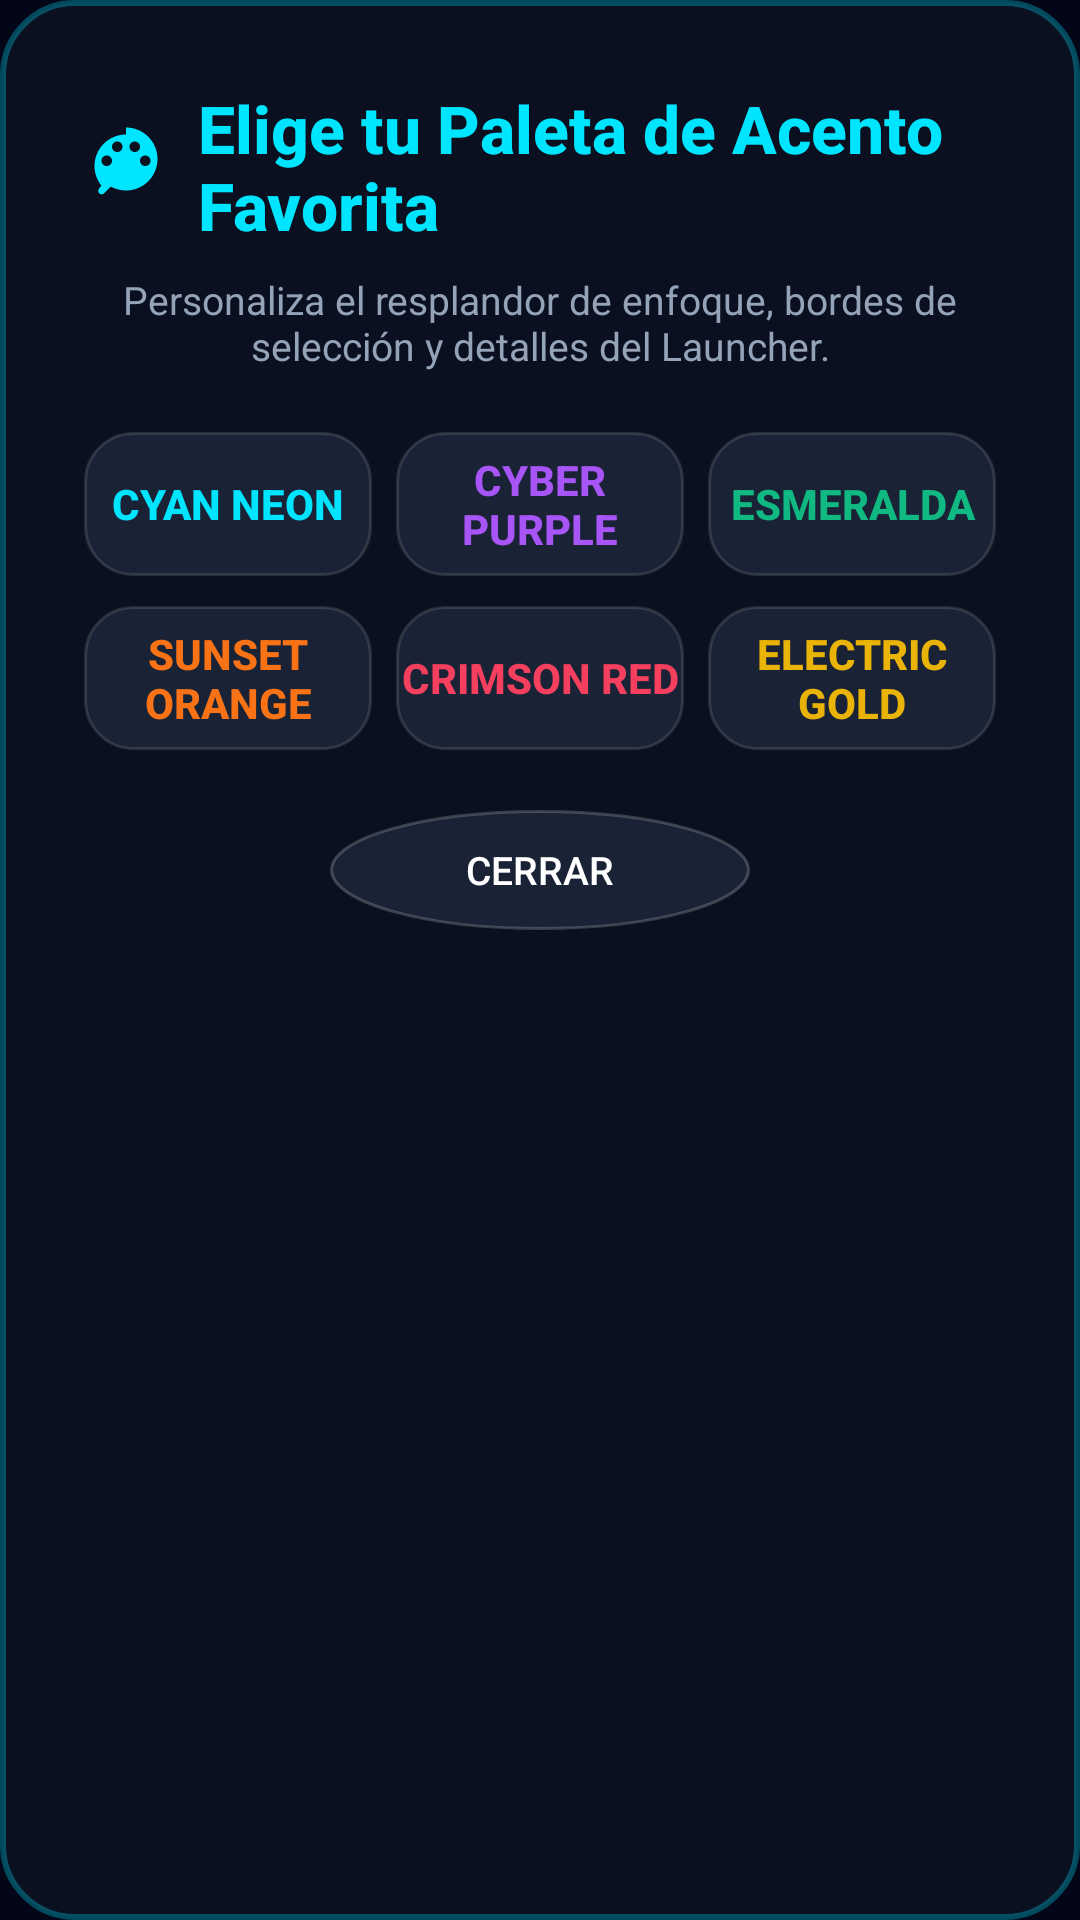

Where to tap for icons on this 1080 × 1920 app screen, as (x=x, y=y):
palette: (x=126, y=161)
